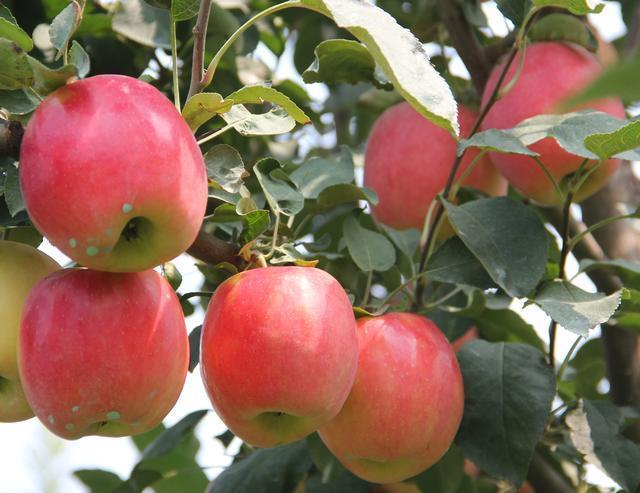apple: (16, 71, 207, 269), (196, 265, 359, 450), (13, 273, 185, 447), (318, 309, 467, 483), (481, 37, 629, 206), (360, 100, 508, 238), (1, 240, 63, 418)
